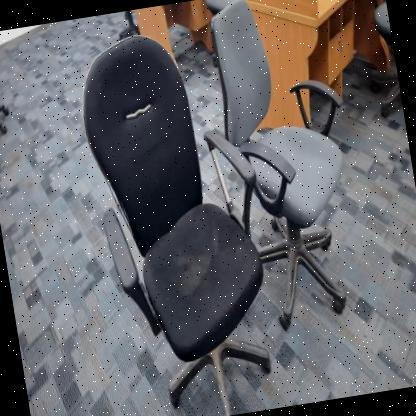chair: (68, 10, 296, 416), (193, 0, 393, 332)
